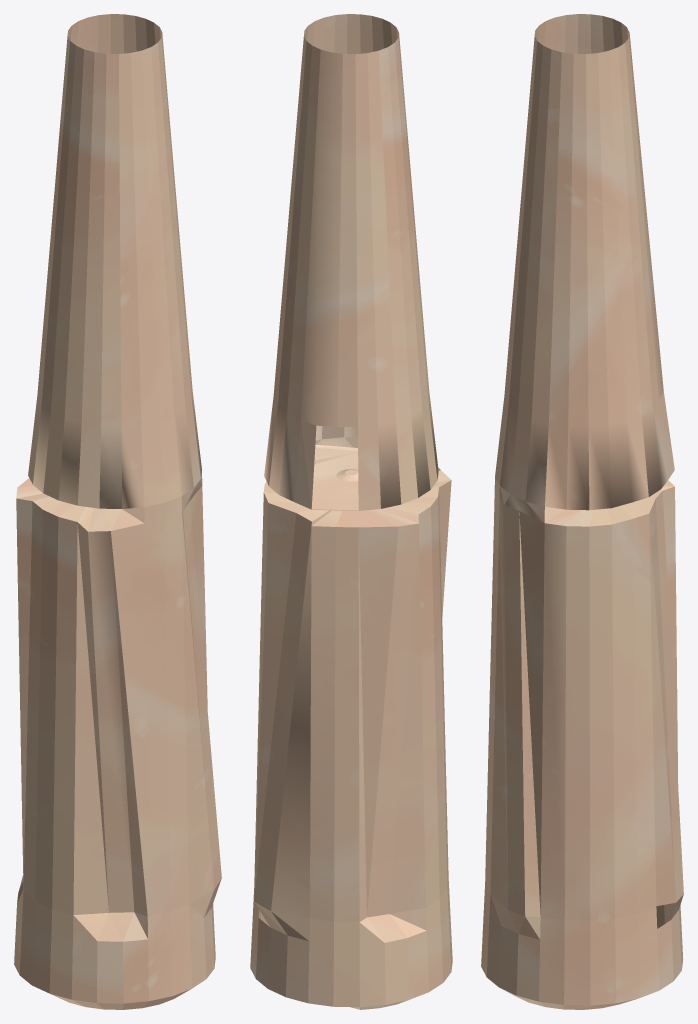
The model's file is ile cooner.fbx.
3 views of the same model, side by side, from view 1: azimuth 30°, elevation 25°; view 2: azimuth 150°, elevation 25°; view 3: azimuth 270°, elevation 25° (orthographic).
Parts seen in each view (by area): view 1: Object001; view 2: Object001; view 3: Object001.
Part boxes in pixels (x1=…): Object001: x1=14, y1=14, x2=221, y2=1009; Object001: x1=250, y1=14, x2=452, y2=1009; Object001: x1=481, y1=14, x2=683, y2=1009.
Bounding box in the file's own units: 29296 × 29400 × 151071.
